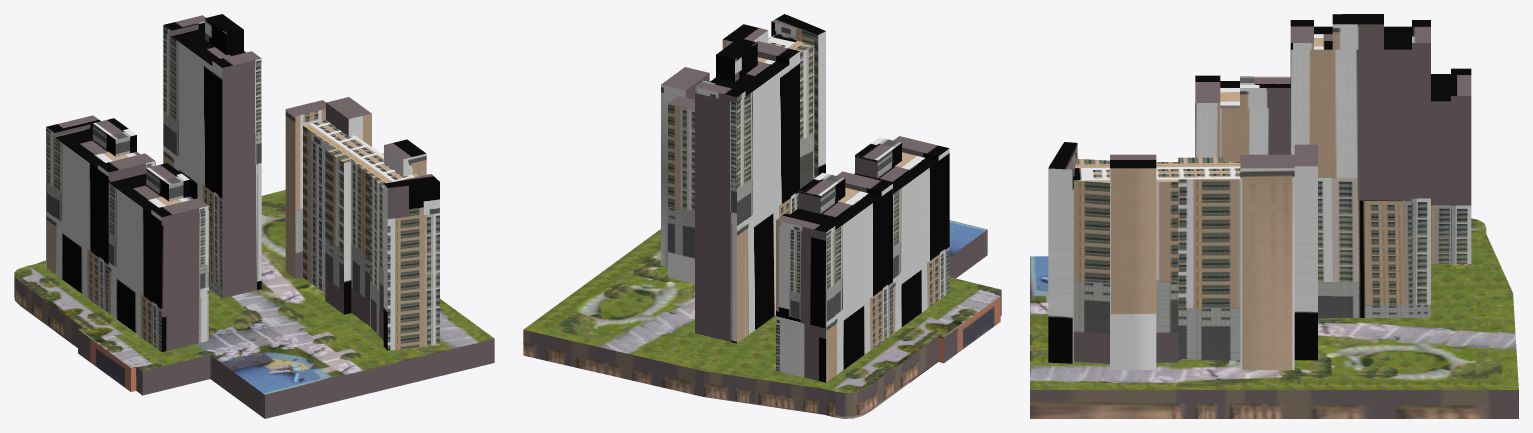
The model's file is ICJ00101_B.glb.
The picture shows the model from 3 angles, left to right: view 1: azimuth 30°, elevation 25°; view 2: azimuth 150°, elevation 25°; view 3: azimuth 270°, elevation 25°; orthographic projection. The views are drawn at different scales.
Parts seen in each view (by area): view 1: MainBuilding; view 2: MainBuilding; view 3: MainBuilding.
Part boxes in pixels (x1,y1,x2,y2): MainBuilding: (14,14,494,418); MainBuilding: (523,14,1001,418); MainBuilding: (1030,14,1518,418).
Bounding box in the file's own units: 3007 × 2565 × 3523.
1 material, 1 textured.
